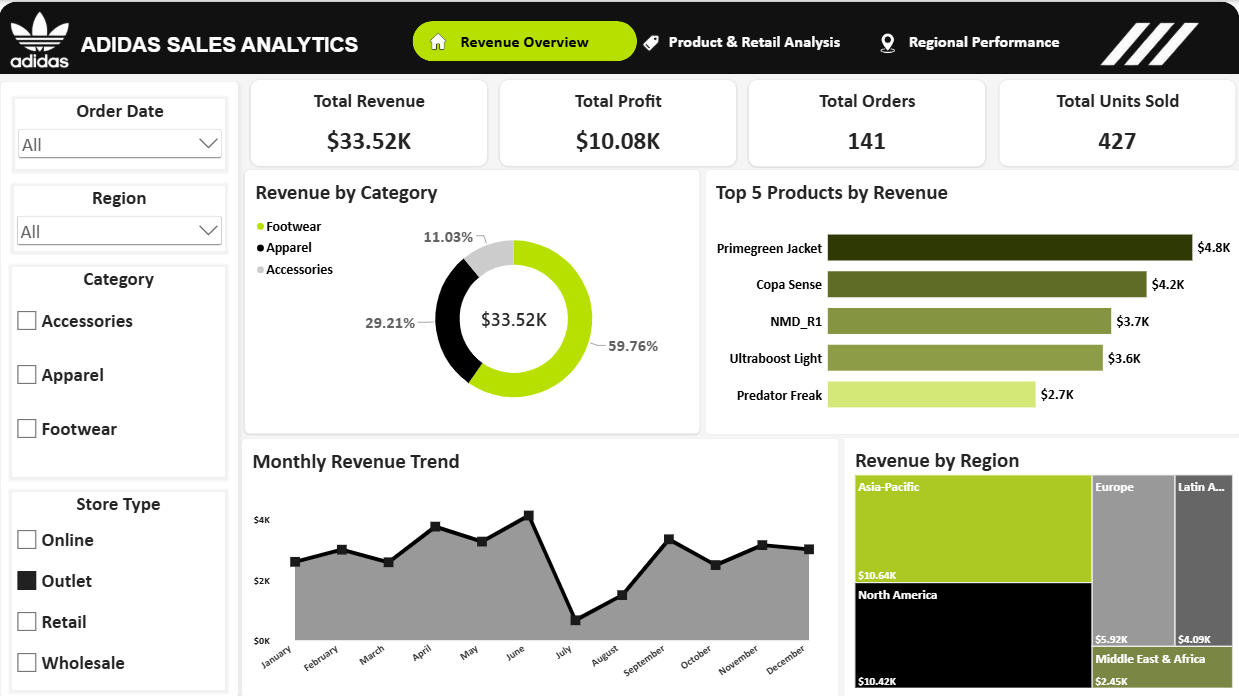

What the dashboard file says about the page in this screenshot:
{"tool":"powerbi","page":{"name":"Revenue Overview","canvas":[1920,1080],"ordinal":0},"visuals":[{"type":"shape","box":[6.7,3.3,1906.7,111.7],"z":0},{"type":"image","box":[6.7,5,126,108],"z":1000},{"type":"textbox","box":[133.3,31.7,444,82],"z":2000},{"type":"image","box":[1696.1,2.3,163.6,129],"z":3000},{"type":"pageNavigator","box":[642.9,32.3,1053.1,62.2],"z":4000},{"type":"image","box":[664,48,36,34],"z":5000},{"type":"image","box":[996,52,28,26],"z":6000},{"type":"image","box":[1358,48,32,36],"z":7000},{"type":"card","title":"Total Revenue","fields":{"Values":["Calculated_Table.total_revenue"]},"box":[394.1,122.1,364.1,133.7],"z":8000},{"type":"card","title":"Total Profit","fields":{"Values":["Calculated_Table.total_profit"]},"box":[776.6,122.1,364.1,133.7],"z":9000},{"type":"card","title":"Total Units Sold","fields":{"Values":["Calculated_Table.total_units_sold"]},"box":[1544,122.1,364.1,133.7],"z":10000},{"type":"card","title":"Total Orders","fields":{"Values":["Calculated_Table.total_orders"]},"box":[1160,122,364,134],"z":11000},{"type":"shape","box":[0,114.4,384.8,965.6],"z":12000},{"type":"slicer","title":"Order Date","fields":{"Values":["Date_Table.Date.Variation.Date Hierarchy.Year","Date_Table.Date.Variation.Date Hierarchy.Month","Date_Table.Date.Variation.Date Hierarchy.Day"]},"box":[32.3,152.1,322.6,108.3],"z":13000},{"type":"slicer","title":"Region","fields":{"Values":["adidas_sales_data.Region"]},"box":[30,285.8,324.9,99.1],"z":14000},{"type":"slicer","title":"Category","fields":{"Values":["adidas_sales_data.Category"]},"box":[27.7,410.2,327.2,322.6],"z":15000},{"type":"slicer","title":"Store Type","fields":{"Values":["adidas_sales_data.Store_Type"]},"box":[27.7,755.9,327.2,304.2],"z":16000},{"type":"lineChart","title":"Monthly Revenue Trend","fields":{"Category":["Date_Table.Date.Variation.Date Hierarchy.Month"],"Y":["Calculated_Table.total_revenue"]},"box":[380,672,918,400],"z":17000},{"type":"donutChart","title":"Revenue by Category","fields":{"Category":["adidas_sales_data.Category"],"Y":["Calculated_Table.total_revenue"]},"box":[384,260,700,406],"z":18000},{"type":"clusteredBarChart","title":"Top 5 Products by Revenue","fields":{"Category":["adidas_sales_data.Product_Name"],"Y":["Calculated_Table.total_revenue"]},"box":[1092,260,824,407],"z":19000},{"type":"treemap","title":"Revenue by Region","fields":{"Group":["adidas_sales_data.Region"],"Values":["Calculated_Table.total_revenue"]},"box":[1306.6,672.9,612,400],"z":20001}]}

Visuals, with their boxes in screenshot pixels (x1, y1, x2, y2), scaled from the page's 1920x1080 canvas onto the 1239x696 screenshot:
shape: l=4, t=2, r=1235, b=74
image: l=4, t=3, r=86, b=73
textbox: l=86, t=20, r=373, b=73
image: l=1095, t=1, r=1200, b=85
pageNavigator: l=415, t=21, r=1094, b=61
image: l=428, t=31, r=452, b=53
image: l=643, t=34, r=661, b=50
image: l=876, t=31, r=897, b=54
"Total Revenue" card: l=254, t=79, r=489, b=165
"Total Profit" card: l=501, t=79, r=736, b=165
"Total Units Sold" card: l=996, t=79, r=1231, b=165
"Total Orders" card: l=749, t=79, r=983, b=165
shape: l=0, t=74, r=248, b=695
"Order Date" slicer: l=21, t=98, r=229, b=168
"Region" slicer: l=19, t=184, r=229, b=248
"Category" slicer: l=18, t=264, r=229, b=472
"Store Type" slicer: l=18, t=487, r=229, b=683
"Monthly Revenue Trend" lineChart: l=245, t=433, r=838, b=691
"Revenue by Category" donutChart: l=248, t=168, r=700, b=429
"Top 5 Products by Revenue" clusteredBarChart: l=705, t=168, r=1236, b=430
"Revenue by Region" treemap: l=843, t=434, r=1238, b=691
